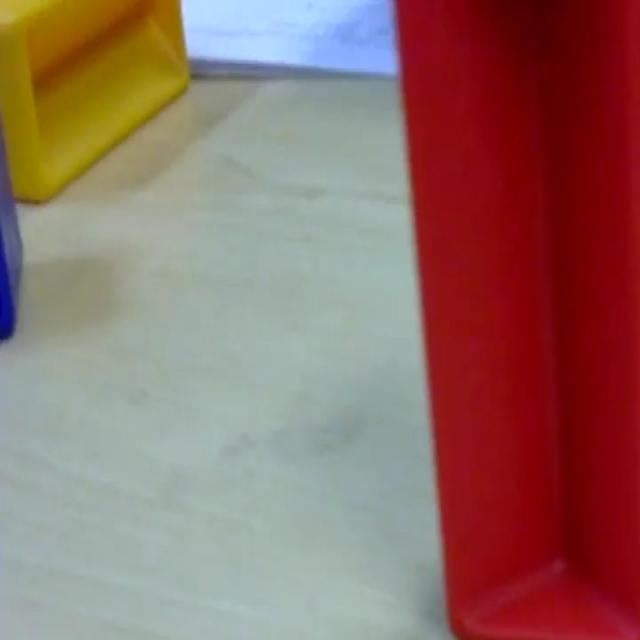red_block: (392, 0, 638, 636)
yellow_block: (1, 0, 190, 203)
